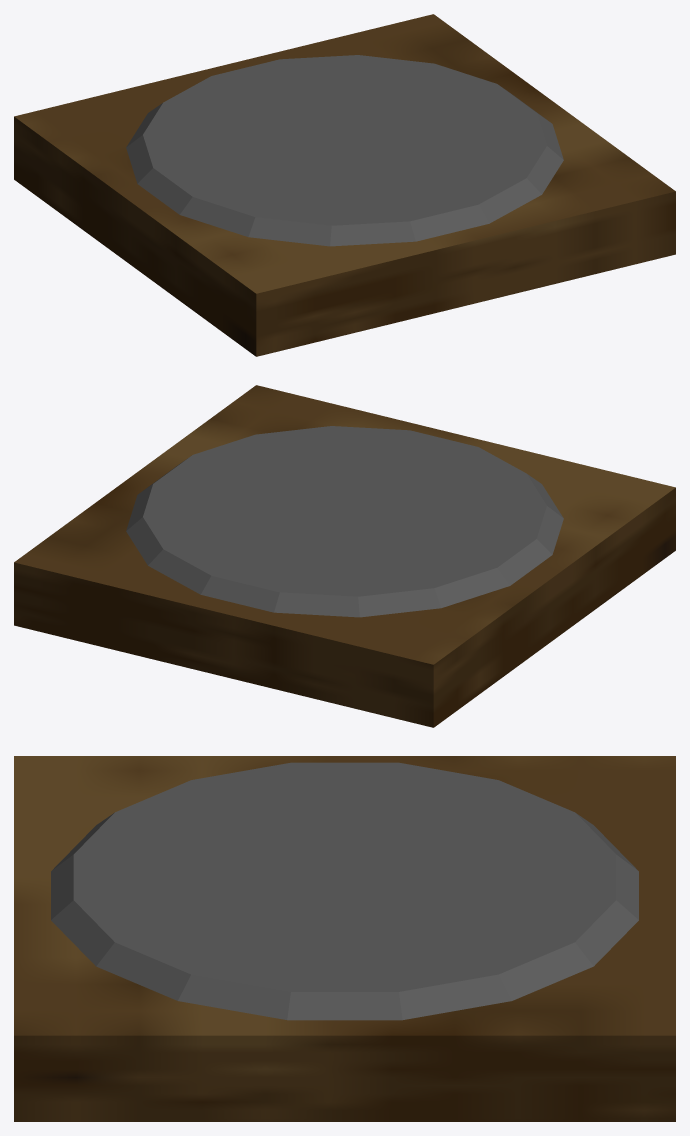
The model's file is Pottery wheel.glb.
The picture shows the model from 3 angles, top to bottom: view 1: azimuth 30°, elevation 25°; view 2: azimuth 150°, elevation 25°; view 3: azimuth 270°, elevation 25°; orthographic projection. The views are drawn at different scales.
Visible parts, largest first — view 1: Cube, Cube.001; view 2: Cube, Cube.001; view 3: Cube, Cube.001.
Boxes of the visible parts, bbox=[...] form: Cube: bbox=[14, 14, 675, 356]; Cube.001: bbox=[126, 55, 563, 246]; Cube: bbox=[14, 385, 675, 727]; Cube.001: bbox=[126, 426, 563, 617]; Cube: bbox=[14, 756, 675, 1121]; Cube.001: bbox=[51, 762, 638, 1020].
Bounding box in the file's own units: 1.62 × 0.2833 × 1.62.
2 materials, 1 textured.
